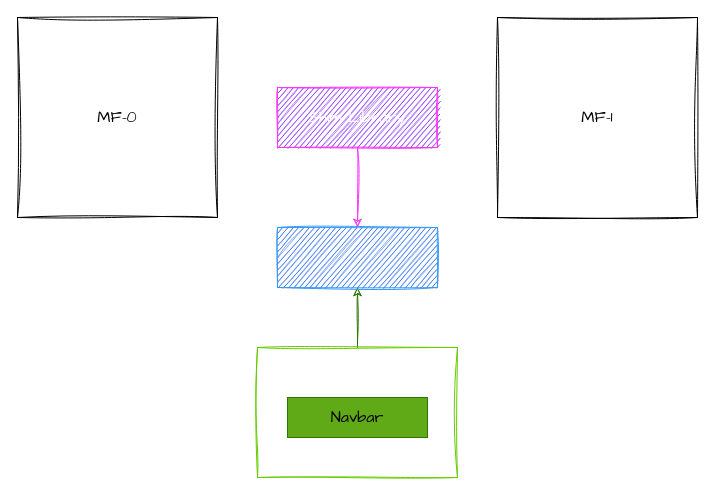
This 715x495 diagram has some shape labels left out. Here are the shapes that lost their labels. From the top down, the box of each, then its label:
(276, 226, 438, 288): S3 Artifacts
(256, 346, 458, 478): Asset Store
